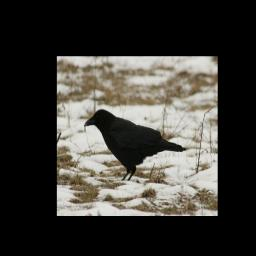Crow: (81, 105, 186, 183)
